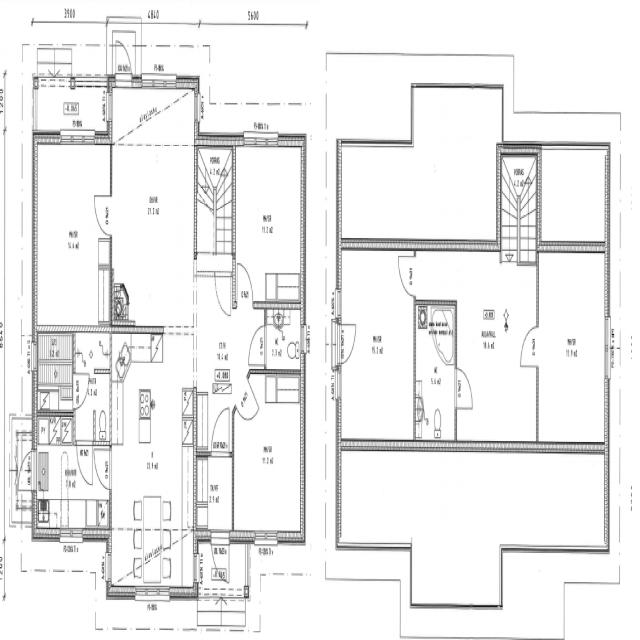door: (208, 402, 231, 457), (517, 319, 540, 373), (233, 256, 255, 311), (452, 362, 475, 414), (237, 374, 260, 426), (208, 530, 230, 584), (395, 248, 417, 301), (336, 317, 358, 369), (112, 39, 134, 90), (246, 320, 268, 370), (212, 268, 233, 320), (15, 448, 36, 499), (91, 188, 112, 238), (92, 443, 112, 494), (246, 367, 265, 416), (74, 440, 93, 488), (72, 372, 89, 411)
window: (58, 126, 96, 150), (602, 308, 614, 383), (242, 130, 280, 153), (139, 72, 169, 96), (155, 72, 179, 100), (252, 528, 280, 551), (142, 582, 169, 604), (332, 286, 342, 324), (66, 526, 85, 546), (28, 334, 37, 376), (102, 540, 110, 586), (300, 319, 309, 357), (334, 367, 342, 406)
zone: (111, 333, 195, 589), (109, 96, 196, 334), (454, 252, 538, 446), (337, 249, 417, 446), (410, 82, 500, 250), (33, 140, 112, 331), (536, 249, 608, 451), (231, 372, 305, 540), (233, 142, 304, 306), (35, 422, 112, 530), (538, 144, 611, 250), (339, 140, 412, 240), (414, 300, 456, 447), (194, 452, 232, 538), (35, 327, 73, 411), (264, 299, 303, 371), (73, 375, 110, 448), (106, 526, 142, 595), (72, 330, 110, 374)
